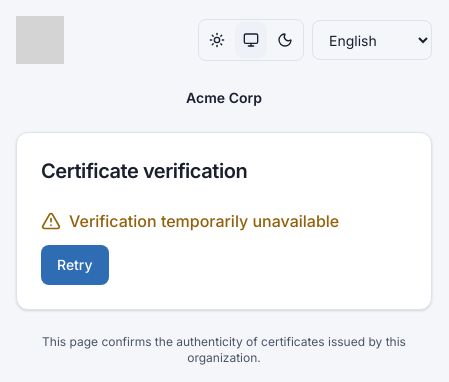
Scenario: VerifyCertificatePage › shows unavailable state on HTTP 500 and retries
Check: the text "Verification temporarily unavailable" is shown, box top-left (41, 211), bottom-right (339, 231)
Click the button "Retry": (75, 265) top-left (41, 245), bottom-right (109, 285)
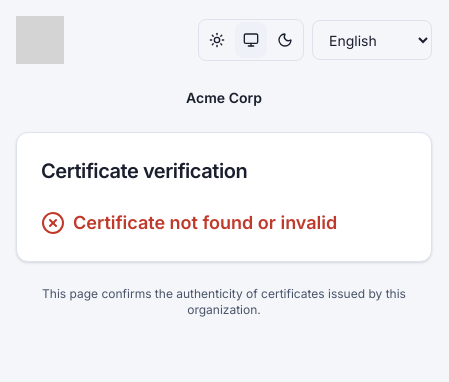
Check: the message reads "Certificate not found or invalid", box top-left (73, 212), bottom-right (337, 233)
